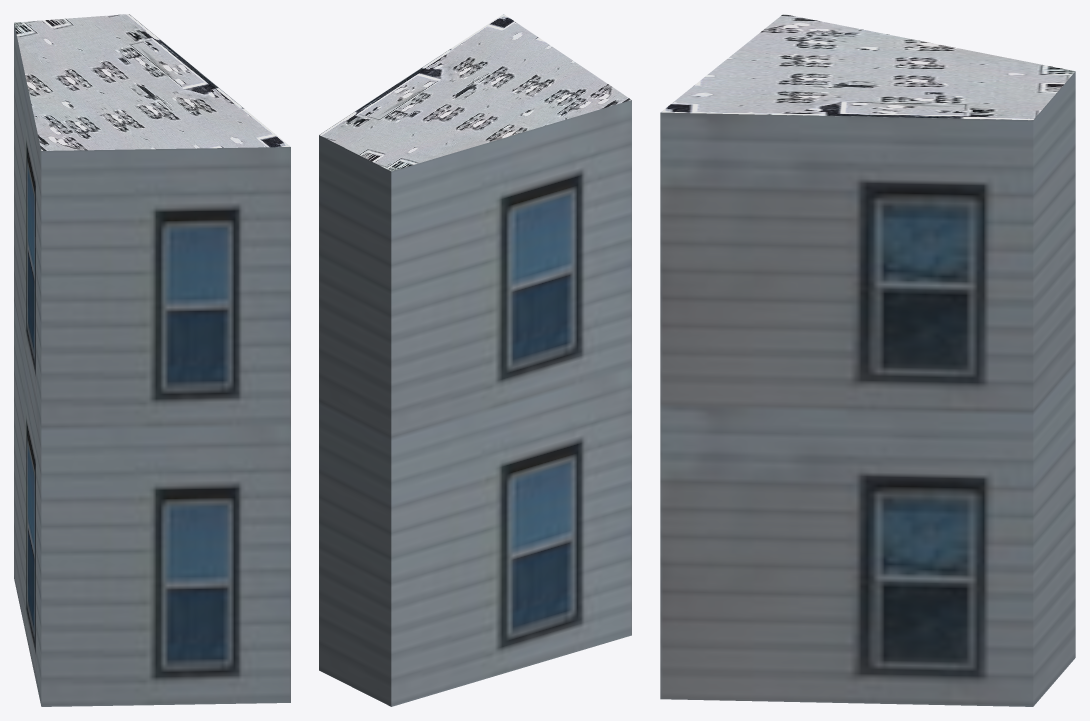
File: ResTex__4662.fbx
3 renders of one model, left to right at view 1: azimuth 30°, elevation 25°; view 2: azimuth 150°, elevation 25°; view 3: azimuth 270°, elevation 25°, orthographic. The views are drawn at different scales.
Parts seen in each view (by area): view 1: CityEngineMaterial_18_m, CityEngineMaterial_2_m; view 2: CityEngineMaterial_18_m, CityEngineMaterial_2_m; view 3: CityEngineMaterial_18_m, CityEngineMaterial_2_m.
Boxes of the visible parts, box(x1,y1,x2,y2) form: CityEngineMaterial_18_m: box(14, 23, 290, 706); CityEngineMaterial_2_m: box(14, 14, 290, 150); CityEngineMaterial_18_m: box(319, 100, 631, 706); CityEngineMaterial_2_m: box(319, 14, 631, 171); CityEngineMaterial_18_m: box(660, 71, 1075, 706); CityEngineMaterial_2_m: box(660, 14, 1075, 120).
Size of the model in its own units: 2.33 by 6 by 3.85.
2 materials, 2 textured.
